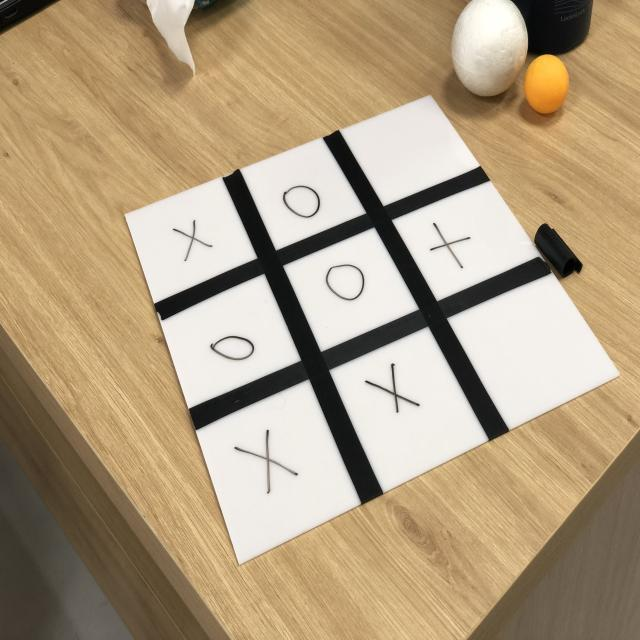null: (446, 260, 621, 434), (340, 84, 482, 211)
o: (323, 260, 370, 308), (279, 177, 324, 223), (207, 328, 257, 365)
table: (79, 52, 621, 562)
x: (235, 427, 298, 499), (362, 362, 418, 420), (428, 215, 476, 275), (170, 213, 213, 260)
